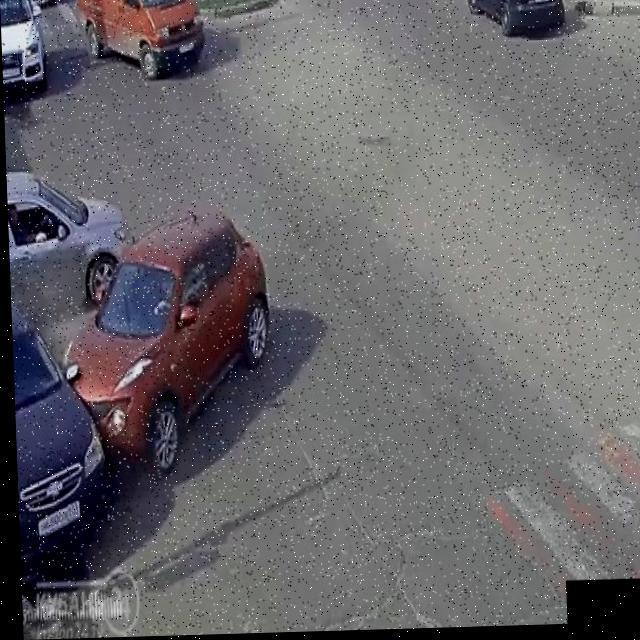multiple_accident: (0, 242, 290, 526)
normal: (58, 0, 221, 96), (11, 134, 100, 258)
